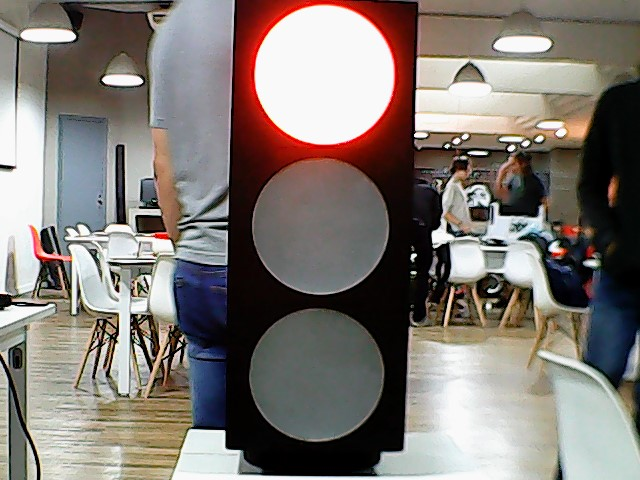vermelho: (223, 1, 426, 477)
